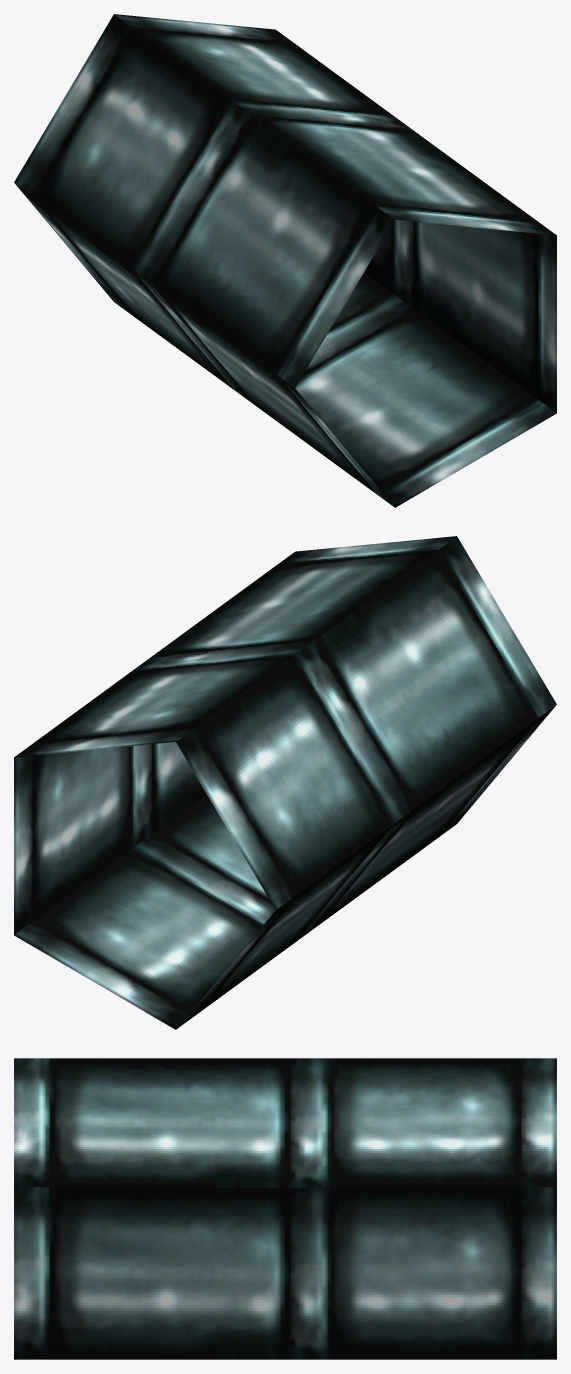
The model's file is Stütze_TeilRohr_1441.glb.
The picture shows the model from 3 angles, top to bottom: view 1: azimuth 30°, elevation 25°; view 2: azimuth 150°, elevation 25°; view 3: azimuth 270°, elevation 25°; orthographic projection. The views are drawn at different scales.
Parts seen in each view (by area): view 1: pPlaneShape34, pPlaneShape32, pPlaneShape30, pPlaneShape31, pPlaneShape33; view 2: pPlaneShape34, pPlaneShape32, pPlaneShape30, pPlaneShape31, pPlaneShape33; view 3: pPlaneShape31, pPlaneShape30.
Part boxes in pixels (x1=…): pPlaneShape34: x1=14, y1=14, x2=394, y2=387; pPlaneShape32: x1=295, y1=272, x2=556, y2=507; pPlaneShape30: x1=114, y1=14, x2=556, y2=235; pPlaneShape31: x1=364, y1=220, x2=556, y2=412; pPlaneShape33: x1=15, y1=183, x2=394, y2=507; pPlaneShape34: x1=176, y1=536, x2=556, y2=909; pPlaneShape32: x1=14, y1=794, x2=275, y2=1029; pPlaneShape30: x1=14, y1=536, x2=456, y2=757; pPlaneShape31: x1=14, y1=742, x2=206, y2=934; pPlaneShape33: x1=176, y1=705, x2=555, y2=1029; pPlaneShape31: x1=14, y1=1187, x2=556, y2=1359; pPlaneShape30: x1=14, y1=1058, x2=556, y2=1187.
Bounding box in the file's own units: 0.5374 × 0.5651 × 1.
5 materials, 5 textured.
